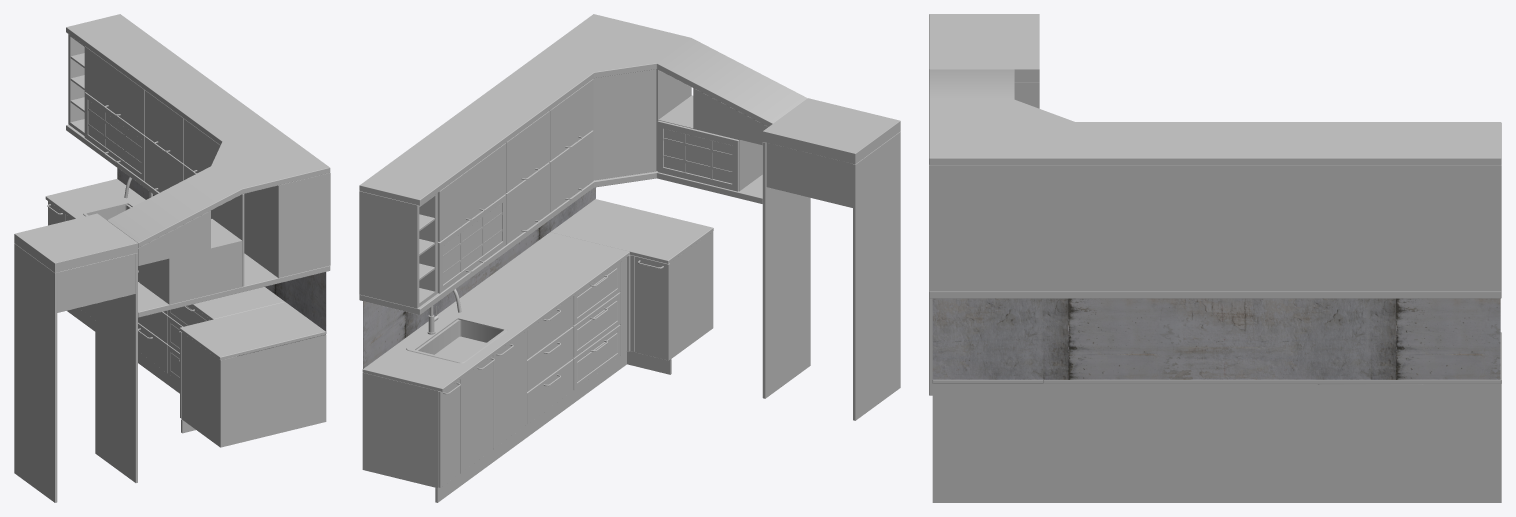
File: SM_KitchenCabinets_01.fbx
3 views of the same model, side by side, from view 1: azimuth 30°, elevation 25°; view 2: azimuth 150°, elevation 25°; view 3: azimuth 270°, elevation 25° (orthographic). The views are drawn at different scales.
Visible parts, largest first — view 1: SM_KitchenCabinets_01_LOD0; view 2: SM_KitchenCabinets_01_LOD0; view 3: SM_KitchenCabinets_01_LOD0.
Part boxes in pixels (left/top/right/bottom): SM_KitchenCabinets_01_LOD0: left=14, top=14, right=330, bottom=502; SM_KitchenCabinets_01_LOD0: left=359, top=14, right=900, bottom=502; SM_KitchenCabinets_01_LOD0: left=929, top=14, right=1501, bottom=502.
Bounding box in the file's own units: 265 × 350 × 246.
